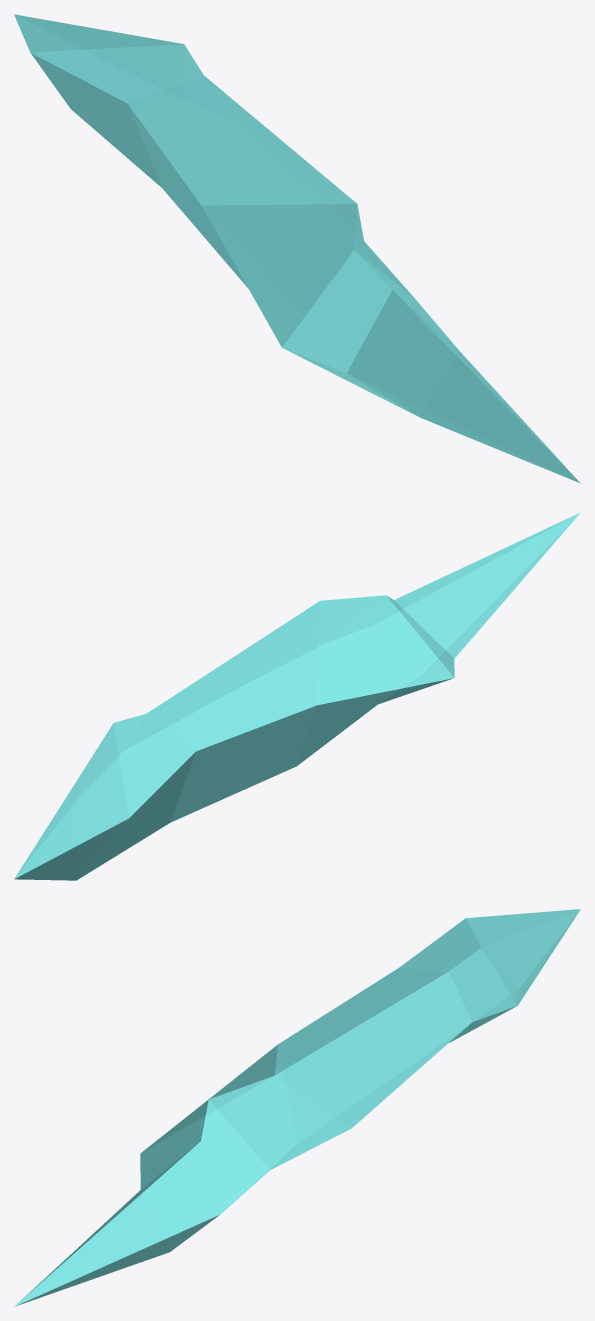
File: Icicle_C.fbx
3 renders of one model, top to bottom at view 1: azimuth 30°, elevation 25°; view 2: azimuth 150°, elevation 25°; view 3: azimuth 330°, elevation 25°, orthographic. The views are drawn at different scales.
Visible parts, largest first — view 1: Icicle_C; view 2: Icicle_C; view 3: Icicle_C.
Boxes of the visible parts, box(x1,y1,x2,y2) form: Icicle_C: box(14, 14, 580, 483); Icicle_C: box(14, 512, 580, 880); Icicle_C: box(14, 909, 580, 1306).
Bounding box in the file's own units: 0.4404 × 2.81 × 0.3684.
